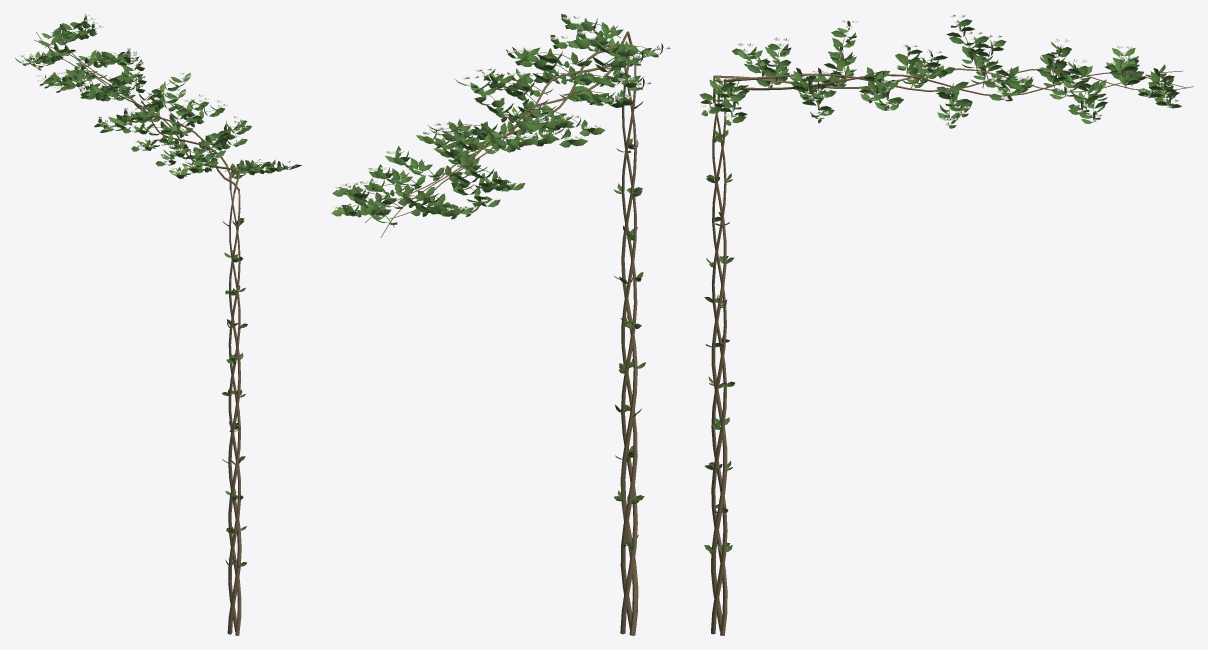
Rendered from trachelospermum-jasminoides-far.glb.
3 renders of one model, left to right at view 1: azimuth 30°, elevation 25°; view 2: azimuth 150°, elevation 25°; view 3: azimuth 270°, elevation 25°, orthographic. The views are drawn at different scales.
Parts seen in each view (by area): view 1: Jasmine glossy opposite leaves, Jasmine supported woody stems, Jasmine five-petal ivory flowers; view 2: Jasmine glossy opposite leaves, Jasmine supported woody stems, Jasmine five-petal ivory flowers; view 3: Jasmine glossy opposite leaves, Jasmine supported woody stems, Jasmine five-petal ivory flowers.
Part boxes in pixels (x1,y1,x2,y2): Jasmine glossy opposite leaves: (15,16,301,568); Jasmine supported woody stems: (25,23,288,635); Jasmine five-petal ivory flowers: (19,14,296,174); Jasmine glossy opposite leaves: (331,14,663,548); Jasmine supported woody stems: (344,21,659,635); Jasmine five-petal ivory flowers: (333,15,670,211); Jasmine glossy opposite leaves: (699,19,1181,553); Jasmine supported woody stems: (708,24,1193,635); Jasmine five-petal ivory flowers: (700,14,1178,125).
Bounding box in the file's own units: 0.7366 × 2.86 × 2.18.
